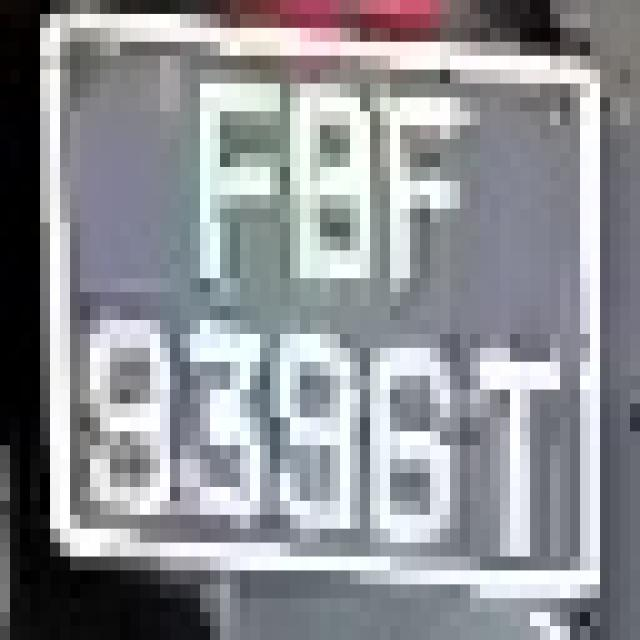3: (170, 278, 270, 529)
6: (340, 292, 470, 612)
9: (70, 250, 180, 570), (270, 306, 380, 557)
B: (280, 42, 390, 320)
F: (170, 28, 270, 334), (370, 42, 470, 334)
T: (460, 292, 580, 557)
